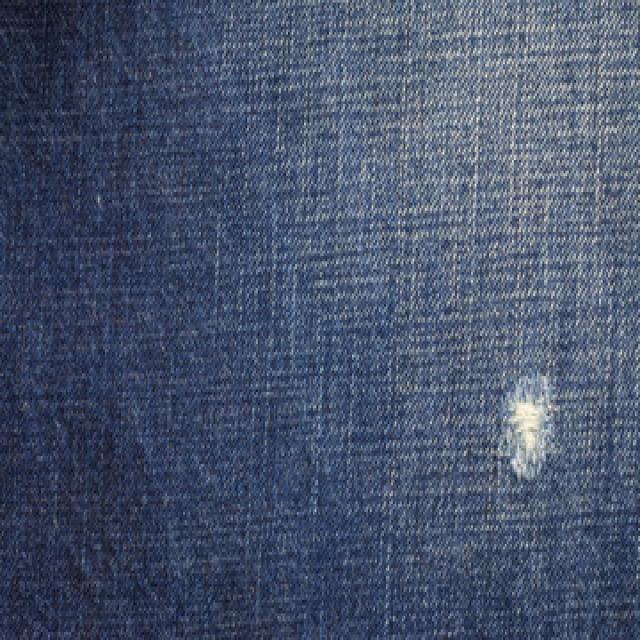Hole: (512, 376, 552, 480)
